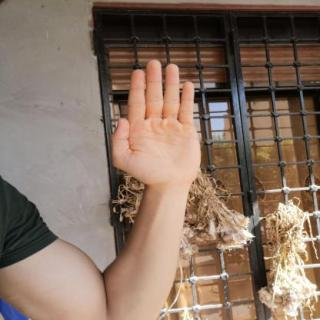SEEN: (102, 53, 212, 195)
